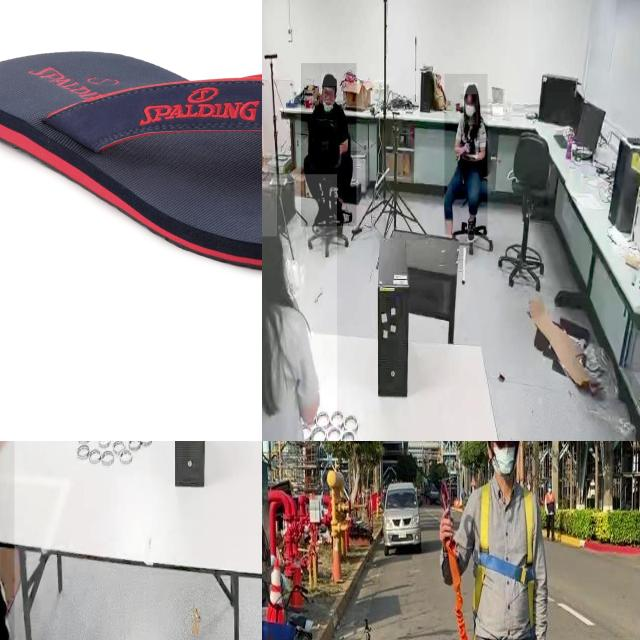Harness: (476, 483, 537, 636), (445, 540, 475, 640)
Sandals: (0, 49, 262, 276)
face_mask: (463, 94, 478, 124)
face_nomask: (321, 87, 335, 105)
hand_noglove: (462, 140, 470, 153)
head_nohelmet: (262, 181, 277, 237), (322, 73, 336, 87), (464, 83, 478, 95)
person: (262, 174, 337, 441), (301, 63, 357, 227), (444, 74, 488, 235)
shoes: (330, 198, 350, 230), (312, 199, 328, 229), (465, 216, 481, 245)
